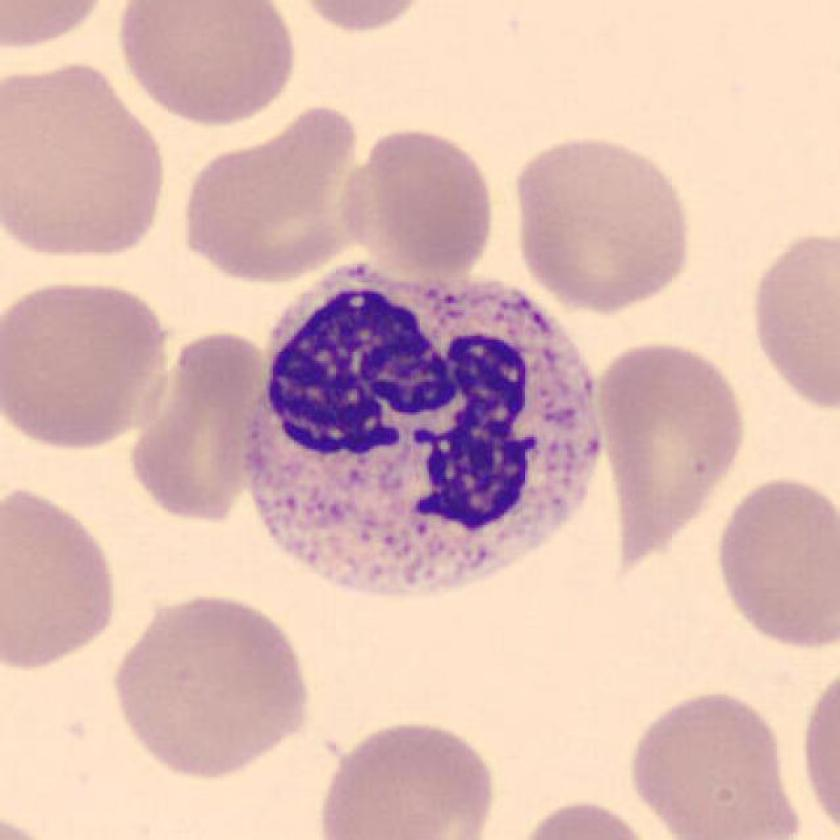neutrophil: (249, 269, 601, 594)
